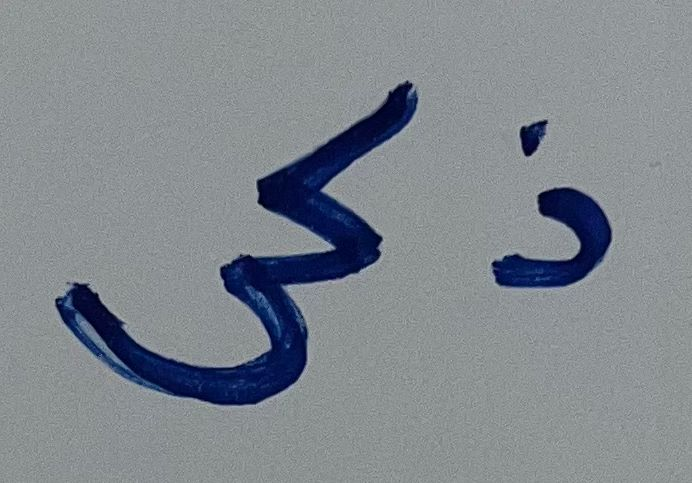kaf: (219, 68, 455, 267), (481, 91, 630, 304)
lam: (32, 270, 363, 417)
